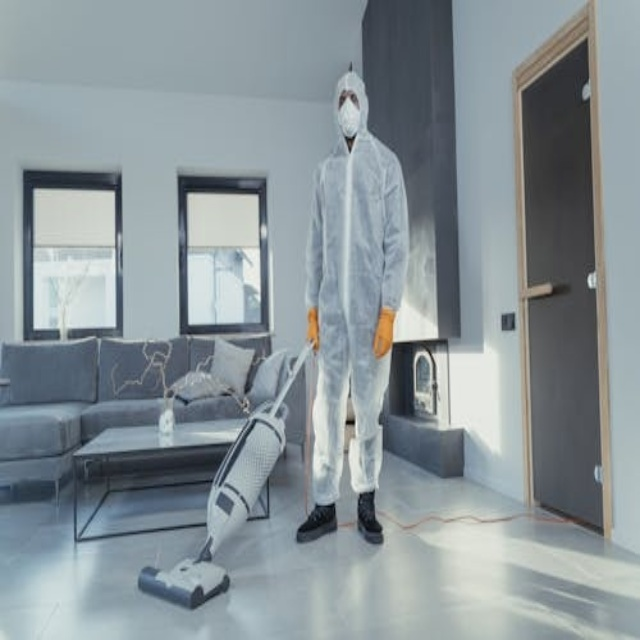Guantes: (373, 307, 396, 359), (307, 308, 320, 351)
Mascara: (338, 100, 361, 138)
